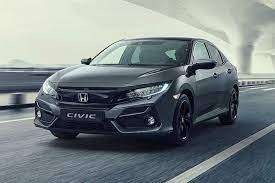Honda: (34, 32, 240, 144)
